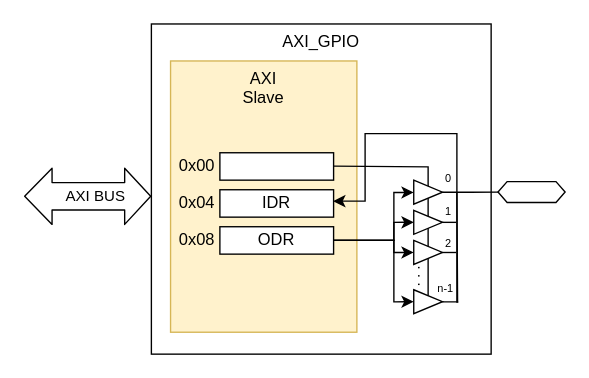
This 589x378 diagram has some shape labels left out. The centre of each missing label's shape, as x and y in pixels:
"CR" goes at point 276,165.
"INOUT" goes at point 531,191.
